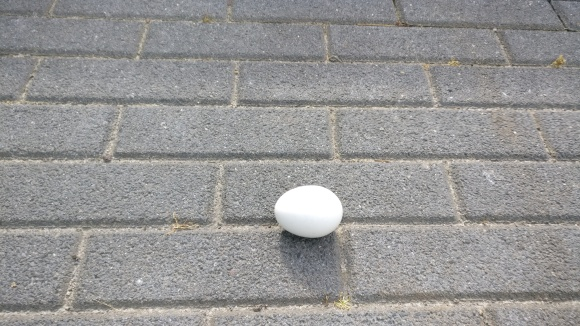egg: (275, 184, 344, 238)
